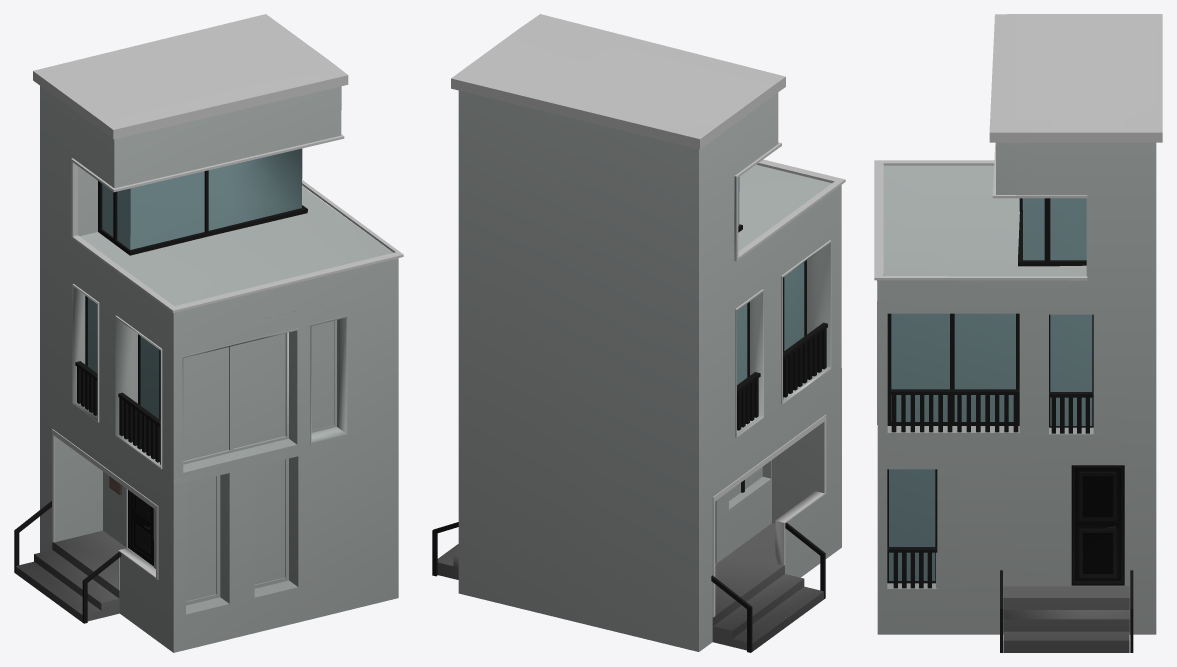
The model's file is Town House White.fbx.
3 views of the same model, side by side, from view 1: azimuth 30°, elevation 25°; view 2: azimuth 150°, elevation 25°; view 3: azimuth 270°, elevation 25° (orthographic). The views are drawn at different scales.
Parts seen in each view (by area): view 1: Cube.077; view 2: Cube.077; view 3: Cube.077.
Part boxes in pixels (x1=…): Cube.077: x1=14, y1=14, x2=403, y2=652; Cube.077: x1=432, y1=14, x2=845, y2=652; Cube.077: x1=874, y1=14, x2=1162, y2=652.
Size of the model in its own units: 1565 by 2425 by 1258.
